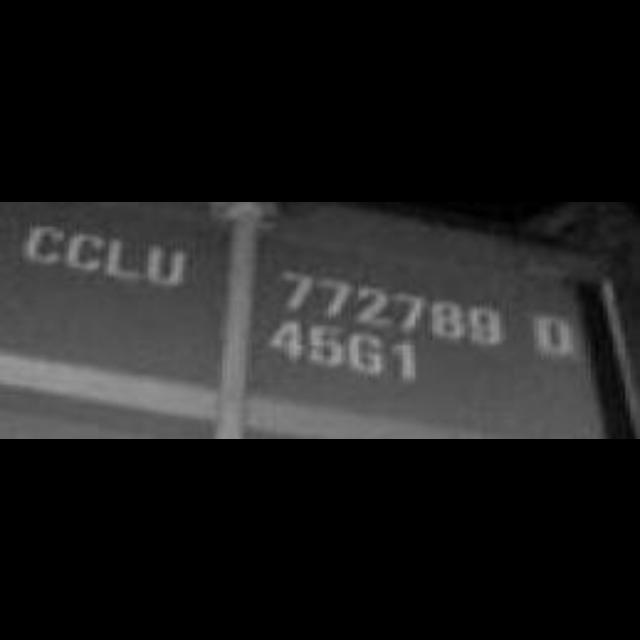1: (388, 339, 424, 387)
2: (354, 282, 394, 336)
4: (270, 316, 306, 362)
5: (307, 322, 345, 372)
7: (314, 270, 356, 328), (277, 261, 315, 315), (394, 284, 428, 340)
8: (429, 294, 463, 344)
9: (533, 310, 573, 358), (466, 298, 502, 350)
c: (22, 217, 68, 270), (65, 221, 105, 277)
g: (348, 329, 382, 377)
l: (105, 234, 147, 286)
u: (148, 237, 188, 290)
